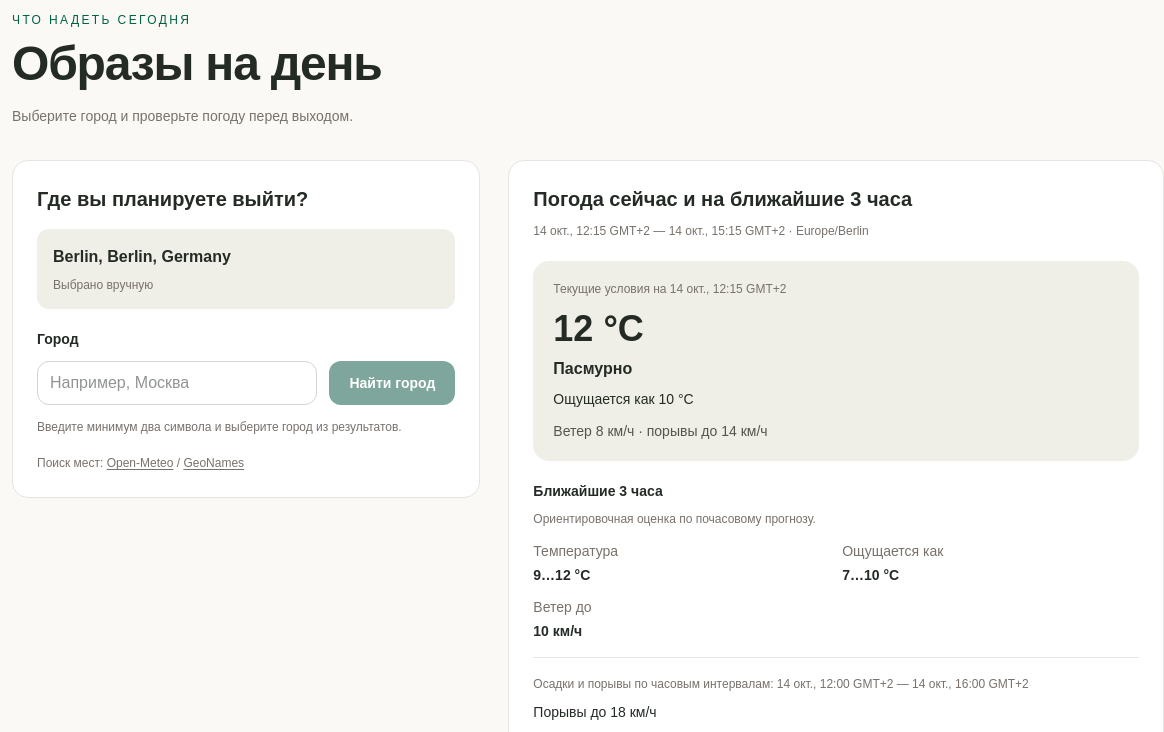
Scenario: personal place and weather › reports empty search results without making a selection
Step 1. Type "Unknown" into the field labelled "Город" → (177, 383), box [37,361,318,405]
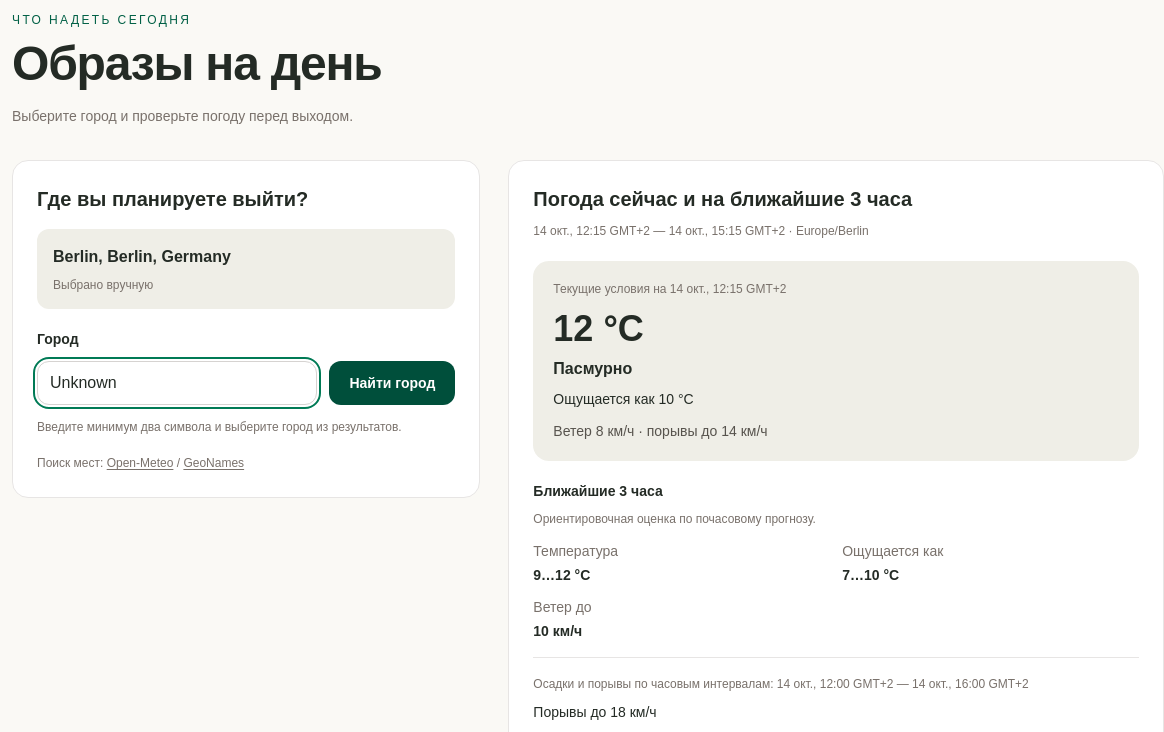
Step 2. Click the button "Найти город" → click(392, 383), box [330,361,455,405]
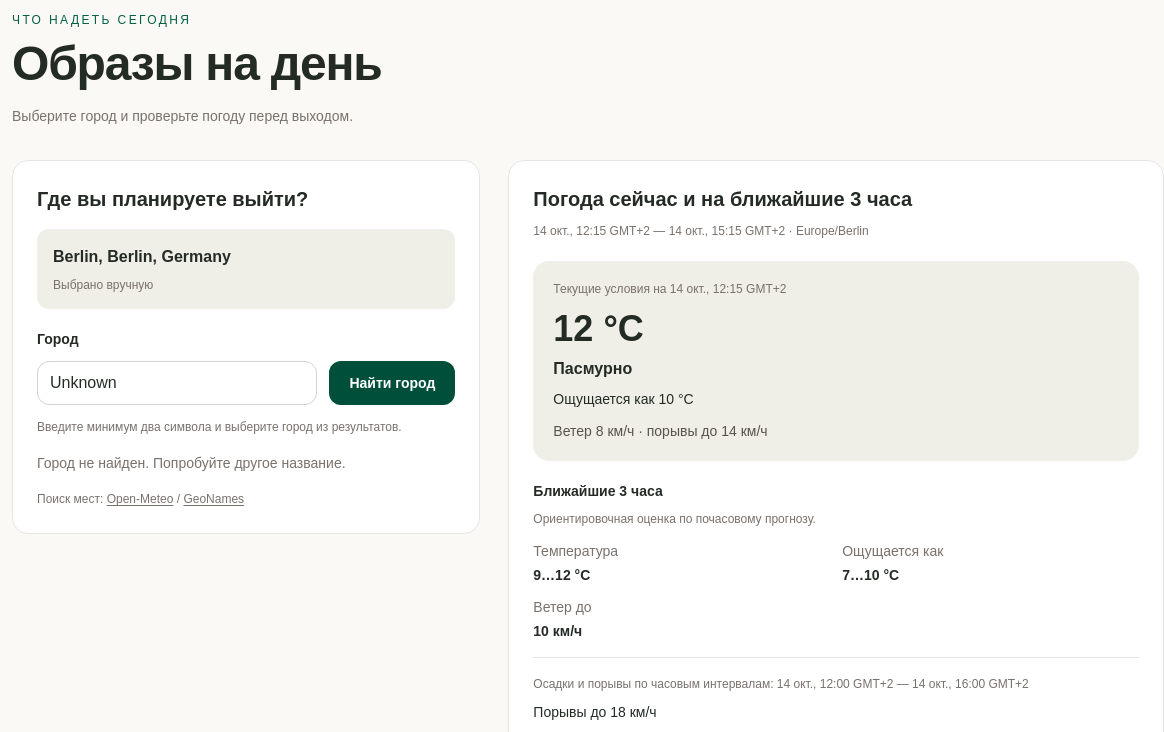
Expected: the text "Город не найден. Попробуйте другое название." is shown, [37,455,346,471]
